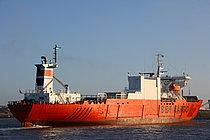Ship: (6, 42, 206, 127)
